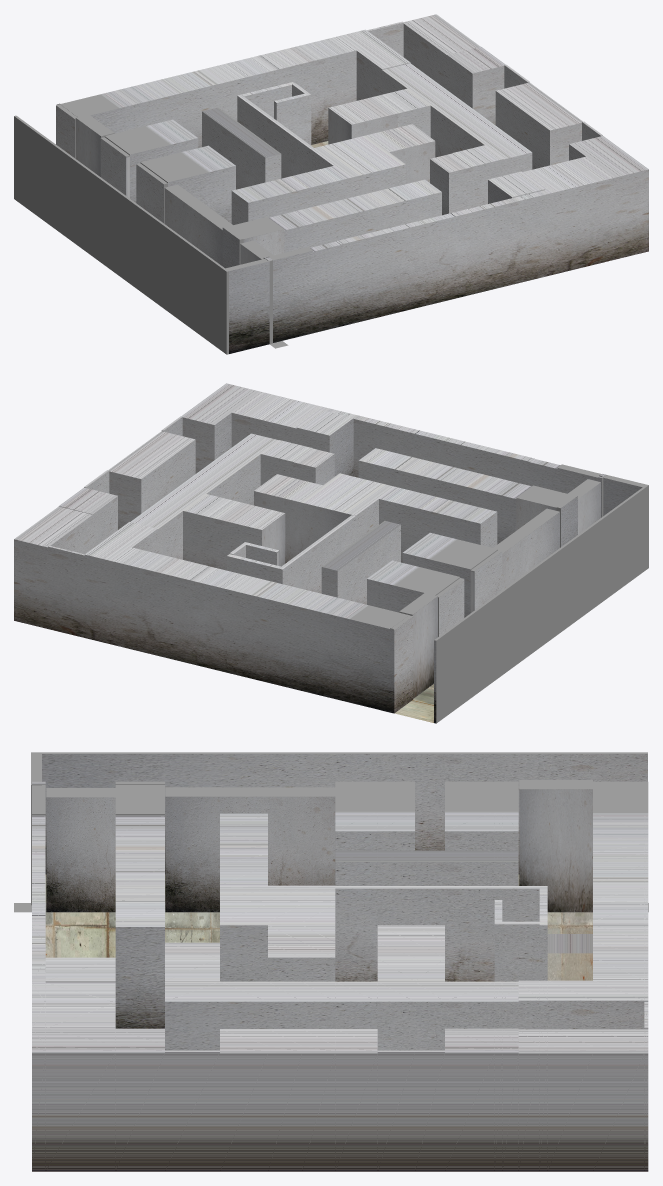
Rendered from maze.fbx.
The picture shows the model from 3 angles, top to bottom: view 1: azimuth 30°, elevation 25°; view 2: azimuth 150°, elevation 25°; view 3: azimuth 270°, elevation 25°; orthographic projection. The views are drawn at different scales.
Visible parts, largest first — view 1: pPlane1, pPlane2, pPlane3; view 2: pPlane1, pPlane2, pPlane3; view 3: pPlane1, pPlane3, pPlane2.
Boxes of the visible parts, <box> form: pPlane1: <box>56,14,648,342</box>; pPlane2: <box>14,103,272,354</box>; pPlane3: <box>75,114,288,348</box>; pPlane1: <box>14,383,606,713</box>; pPlane2: <box>390,475,648,723</box>; pPlane3: <box>381,479,600,713</box>; pPlane1: <box>32,781,648,1171</box>; pPlane3: <box>14,780,648,912</box>; pPlane2: <box>31,752,647,905</box>.
Size of the model in its own units: 82.35 by 15.87 by 73.91.
Materials: 11 (10 with a texture image).
